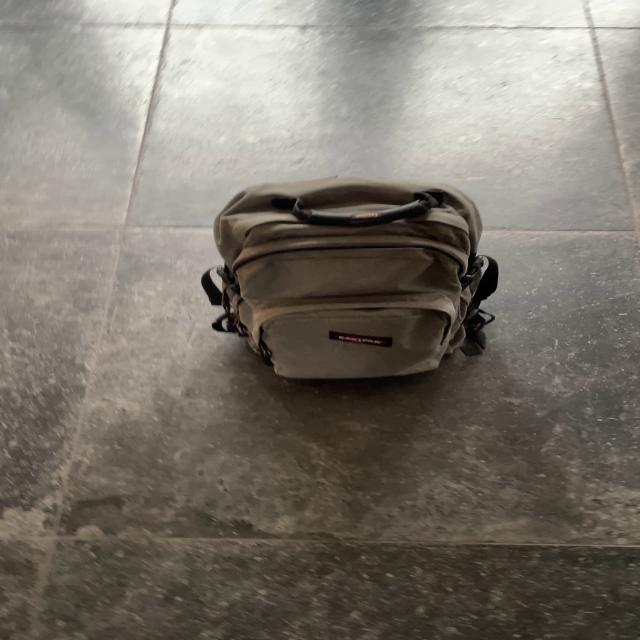backpack: (192, 173, 508, 386)
